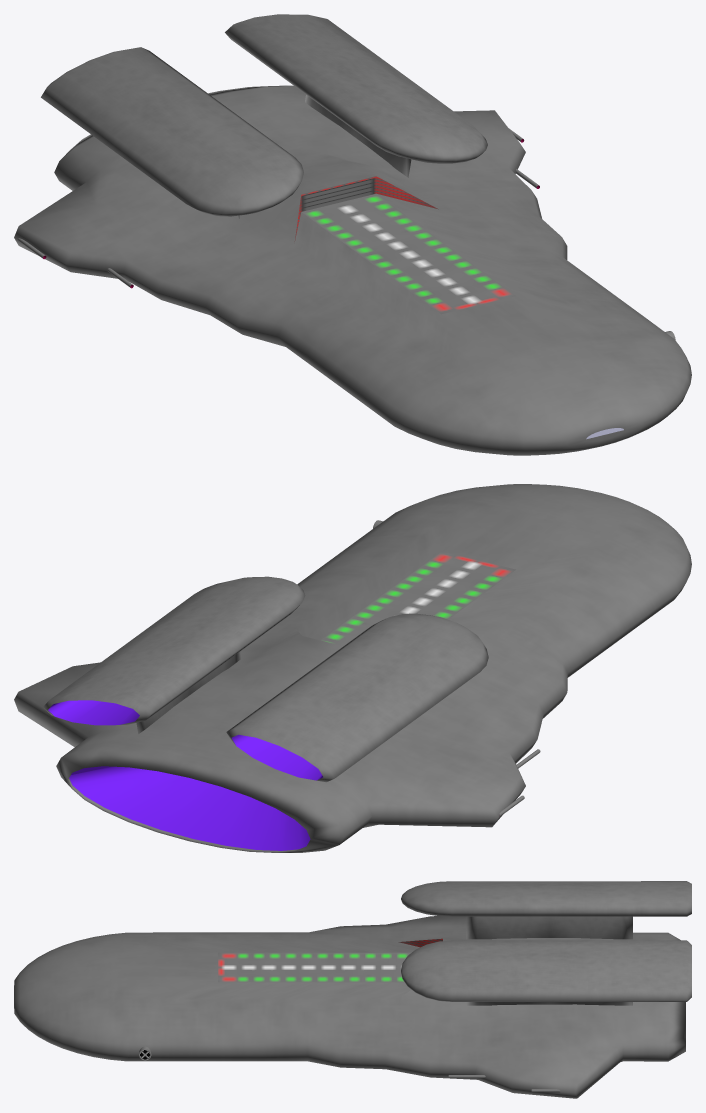
Rendered from cruiser.obj.
3 views of the same model, one above another, from view 1: azimuth 30°, elevation 25°; view 2: azimuth 150°, elevation 25°; view 3: azimuth 270°, elevation 25° (orthographic). The views are drawn at different scales.
Visible parts, largest first — view 1: hull, engine1, engine2, landing_strip, landing_door; view 2: hull, engine1, engine2, hull_engine_inside, landing_strip, engine_inside; view 3: hull, engine2, engine1, landing_strip, enginearm.
Boxes of the visible parts, x1,y1,x2,y2 form: hull: (14, 85, 691, 455); engine1: (41, 47, 303, 216); engine2: (225, 14, 487, 177); landing_strip: (302, 194, 515, 314); landing_door: (294, 176, 438, 241); hull: (14, 484, 691, 852); engine1: (226, 613, 488, 782); engine2: (43, 576, 305, 733); hull_engine_inside: (69, 766, 310, 850); landing_strip: (321, 551, 515, 645); engine_inside: (48, 700, 323, 780); hull: (14, 916, 685, 1098); engine2: (401, 940, 691, 1005); engine1: (401, 881, 691, 916); landing_strip: (218, 952, 411, 982); enginearm: (466, 916, 632, 939).
Bounding box in the file's own units: 2 × 0.52 × 3.
Materials: 1 (1 with a texture image).
